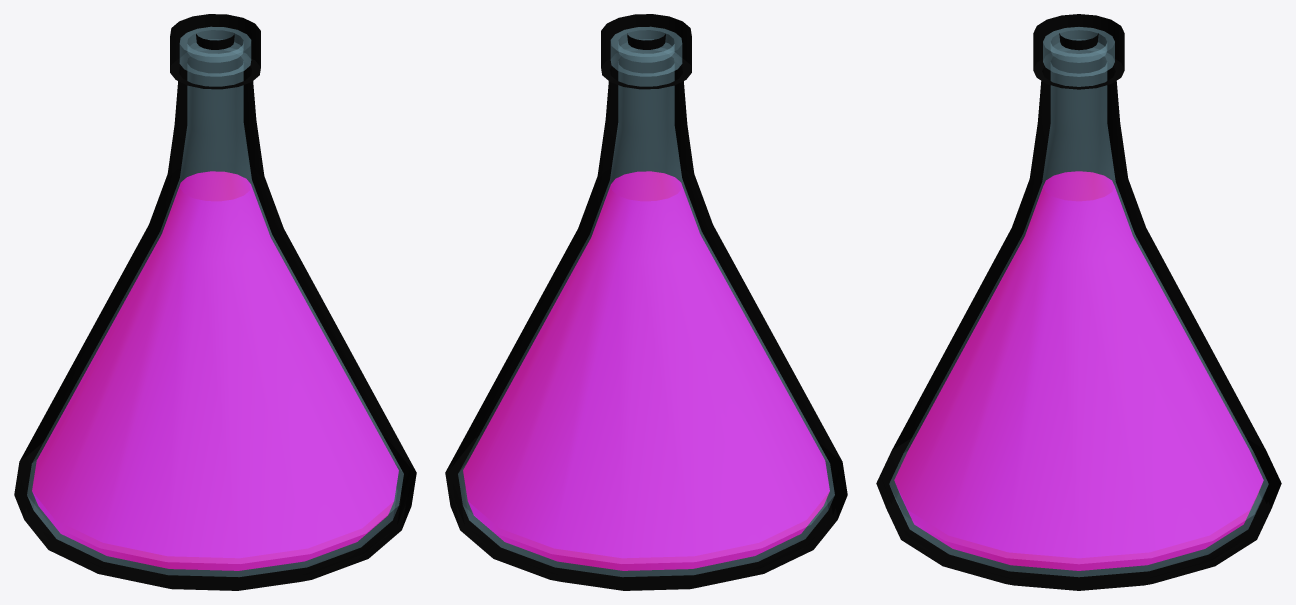
File: Quimico morado 1.fbx
The picture shows the model from 3 angles, left to right: view 1: azimuth 30°, elevation 25°; view 2: azimuth 150°, elevation 25°; view 3: azimuth 270°, elevation 25°; orthographic projection.
Visible parts, largest first — view 1: Cylinder.001; view 2: Cylinder.001; view 3: Cylinder.001.
Boxes of the visible parts, x1,y1,x2,y2 form: Cylinder.001: (14,14,416,590); Cylinder.001: (445,14,847,590); Cylinder.001: (876,14,1281,590).
Size of the model in its own units: 18.89 by 25.01 by 18.89.
